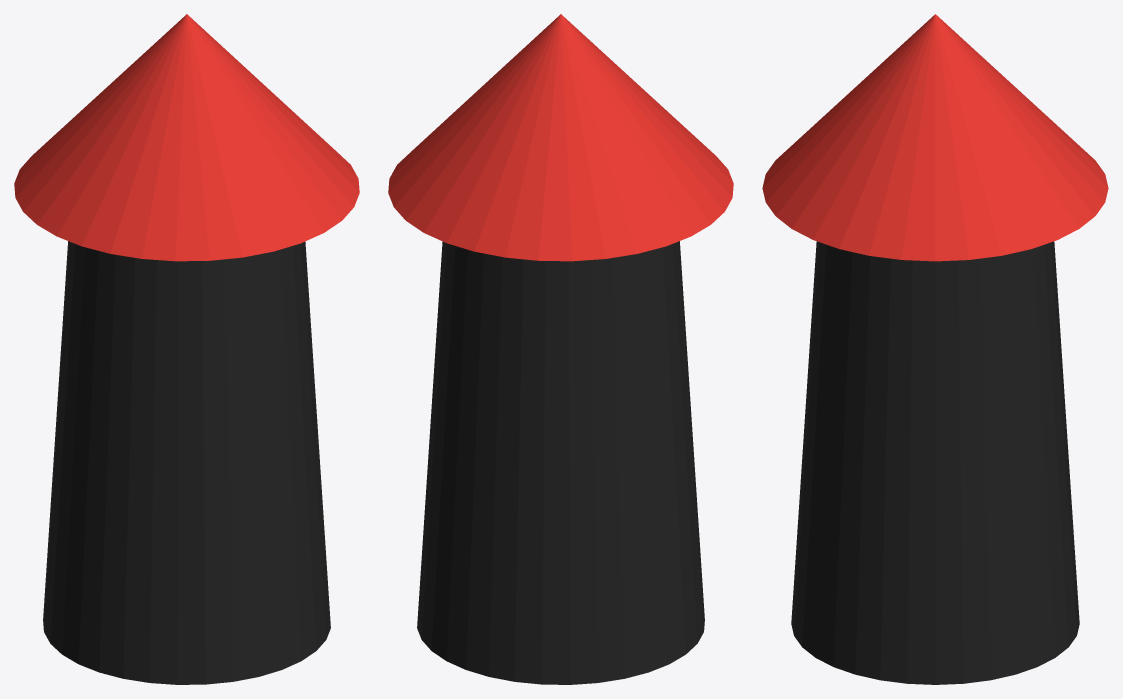
Rendered from tower_roof.glb.
3 renders of one model, left to right at view 1: azimuth 30°, elevation 25°; view 2: azimuth 150°, elevation 25°; view 3: azimuth 270°, elevation 25°, orthographic.
Visible parts, largest first — view 1: Cylinder; view 2: Cylinder; view 3: Cylinder.
Boxes of the visible parts, <box> form: Cylinder: <box>14,14,359,684</box>; Cylinder: <box>388,14,733,684</box>; Cylinder: <box>762,14,1108,684</box>.
Size of the model in its own units: 3.6 by 7 by 3.6.
